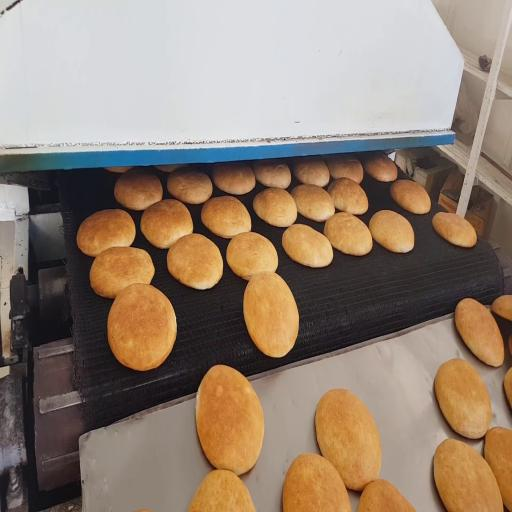bread: (196, 366, 264, 475), (315, 390, 381, 491), (108, 284, 176, 370), (434, 439, 502, 511), (244, 272, 299, 357), (435, 359, 491, 438), (283, 454, 351, 511), (455, 298, 504, 366), (90, 247, 154, 298), (167, 234, 223, 289), (188, 470, 255, 511), (77, 210, 135, 256), (141, 200, 193, 248), (227, 232, 278, 280), (282, 224, 333, 267), (485, 427, 511, 510), (201, 196, 251, 238), (324, 212, 372, 255), (114, 169, 162, 210), (369, 210, 414, 253), (357, 480, 415, 511), (253, 188, 297, 227), (167, 167, 212, 204), (291, 185, 334, 221), (433, 212, 477, 247), (328, 178, 368, 214), (212, 163, 255, 194), (391, 180, 430, 214), (492, 295, 512, 353), (293, 158, 329, 187), (253, 161, 291, 188), (327, 155, 363, 183), (364, 154, 397, 182), (156, 164, 187, 173), (504, 368, 511, 407), (106, 166, 131, 173), (509, 335, 511, 355)
